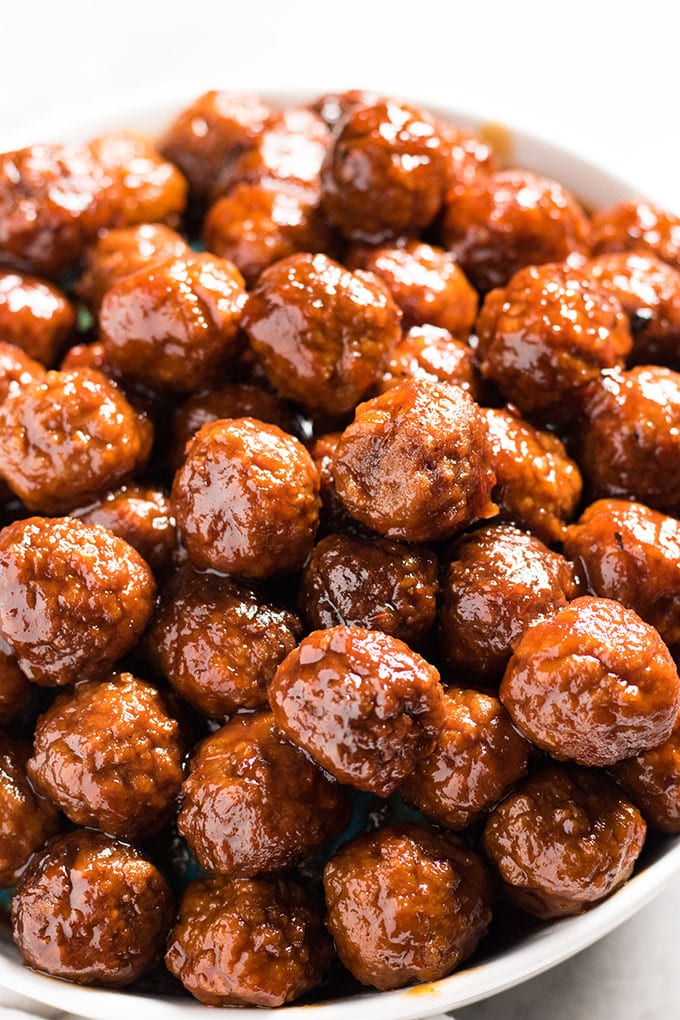meatballs: (50, 183, 593, 890)
